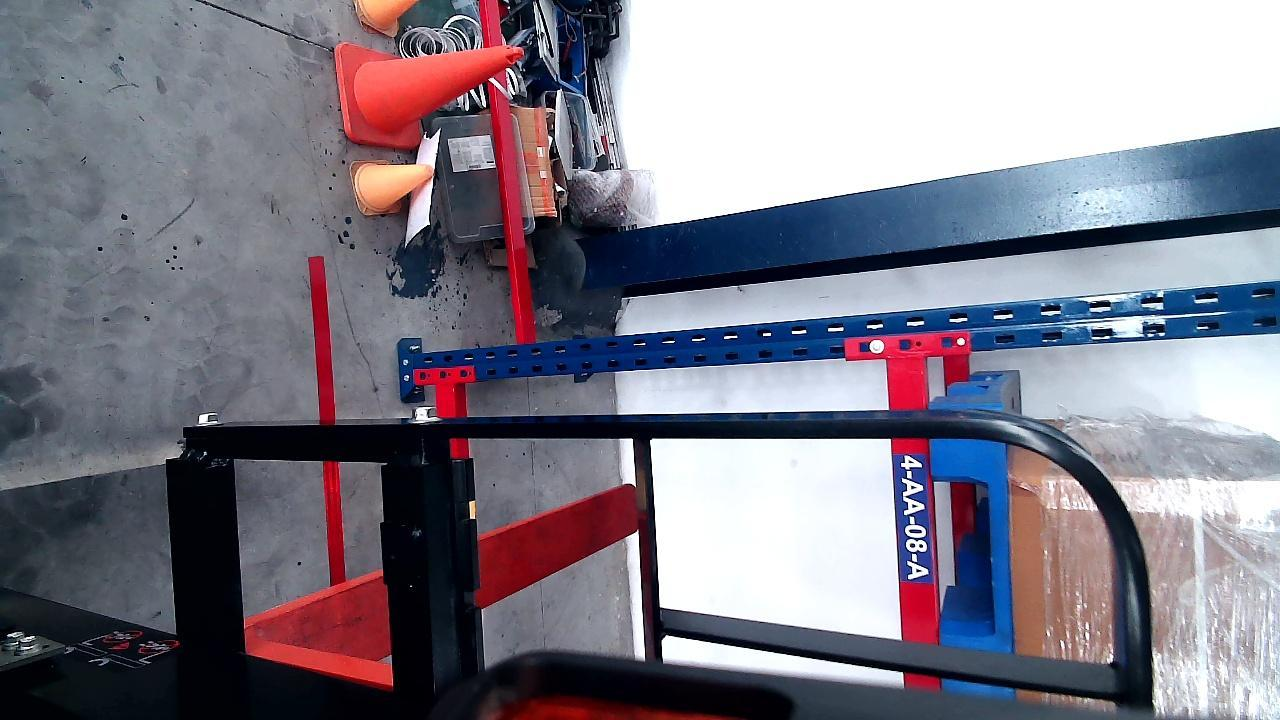red_line: (306, 254, 344, 577)
